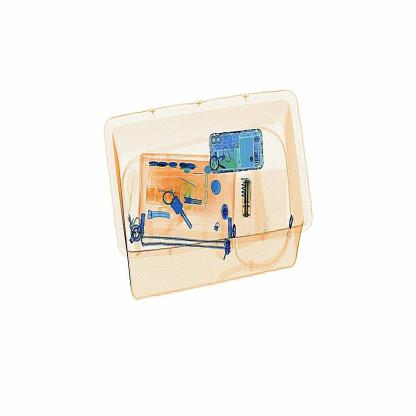scissors: (240, 173, 253, 221)
